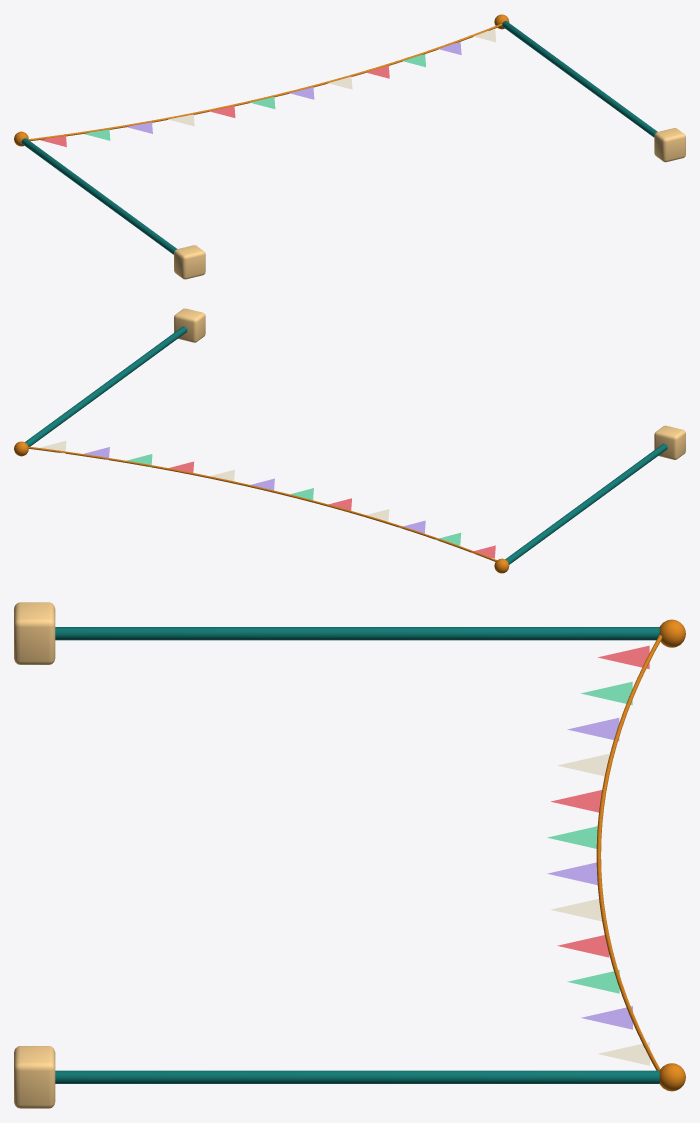
Rendered from RunnerFestivalSpan.fbx.
3 views of the same model, one above another, from view 1: azimuth 30°, elevation 25°; view 2: azimuth 150°, elevation 25°; view 3: azimuth 270°, elevation 25° (orthographic). The views are drawn at different scales.
Parts seen in each view (by area): view 1: RunnerFestivalSpan; view 2: RunnerFestivalSpan; view 3: RunnerFestivalSpan.
Boxes of the visible parts, <box> form: RunnerFestivalSpan: <box>14,14,685,279</box>; RunnerFestivalSpan: <box>14,308,685,573</box>; RunnerFestivalSpan: <box>14,602,685,1108</box>.
Size of the model in its own units: 5.87 by 0.27 by 3.59.
